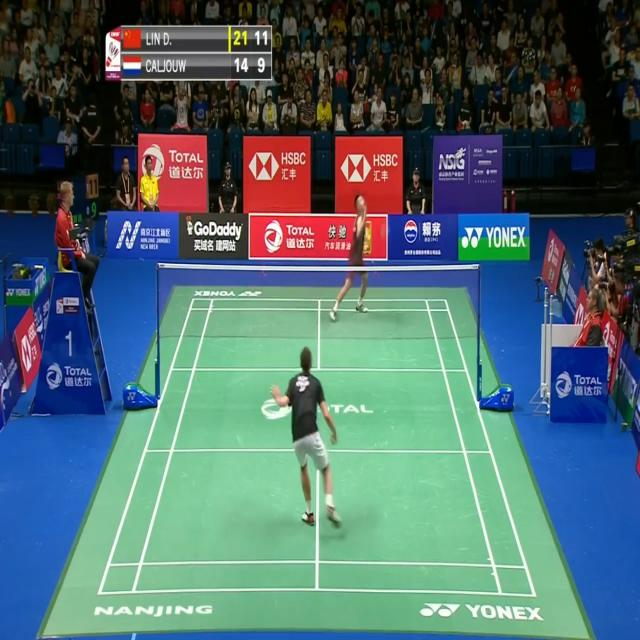Player1: (271, 344, 345, 533)
Player2: (328, 188, 376, 324)
